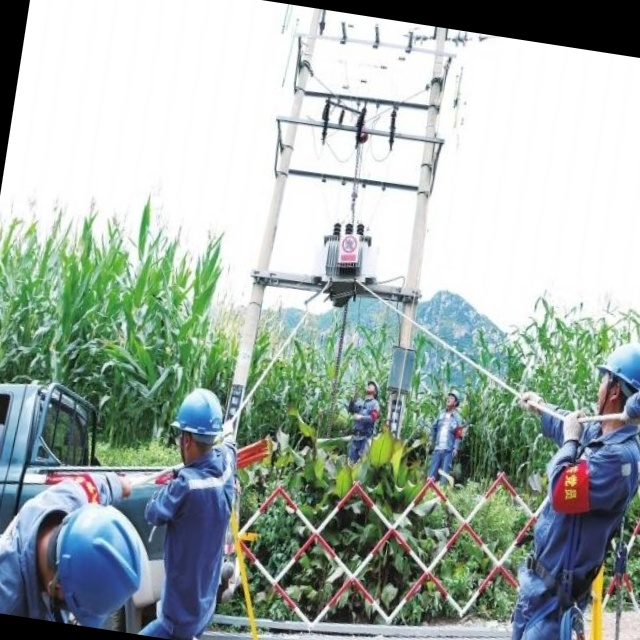Con_Casco: (168, 382, 230, 470)
